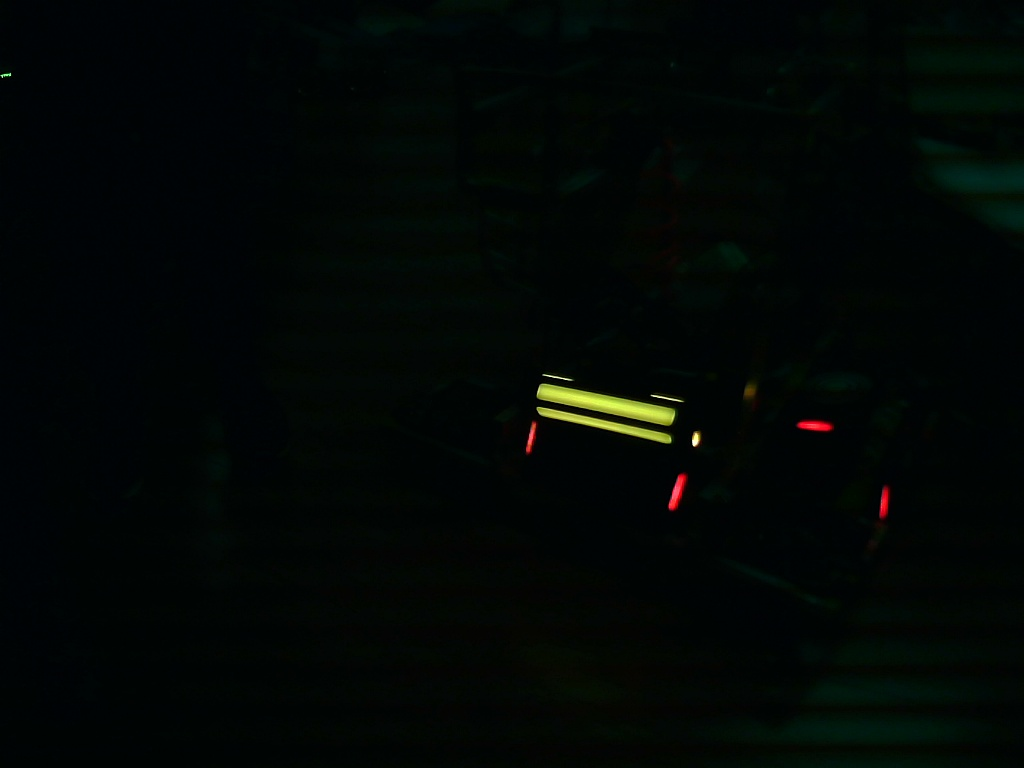lamp: (666, 471, 684, 512), (523, 418, 541, 454), (879, 486, 891, 522)
